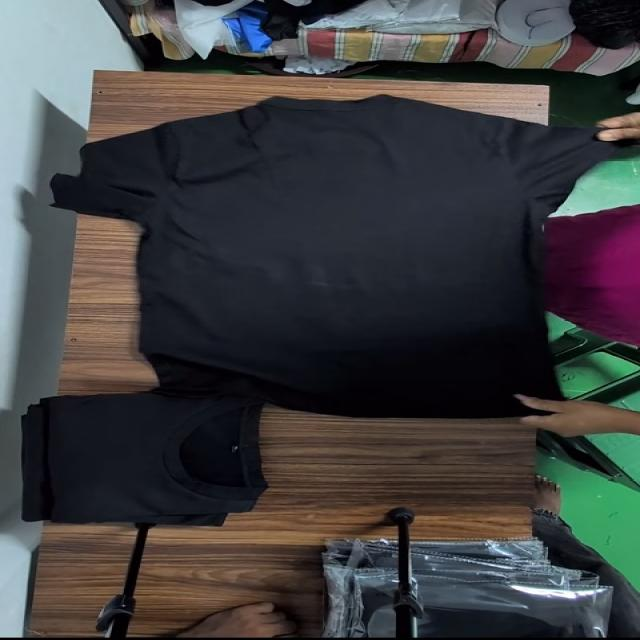new-garment: (53, 95, 616, 417)
